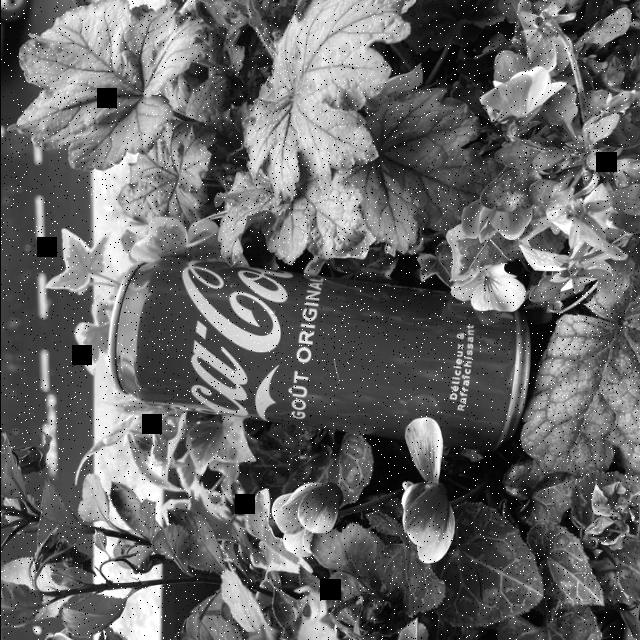can: (77, 244, 557, 472)
